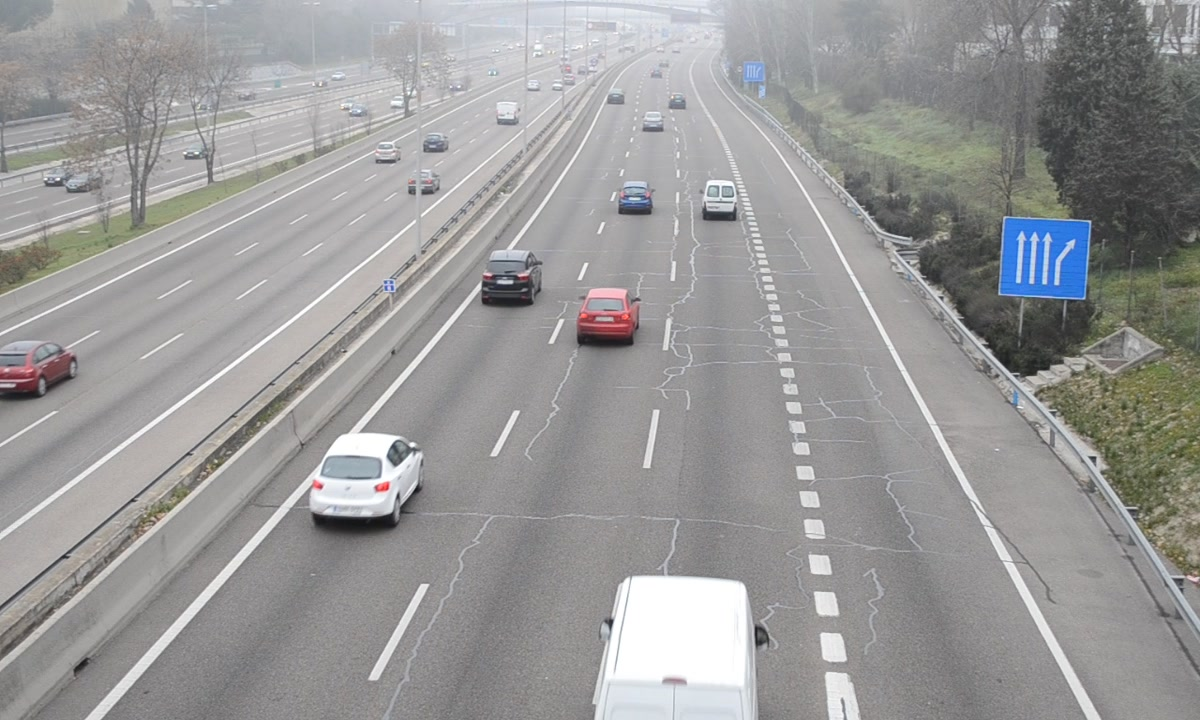car: (312, 433, 423, 518), (576, 288, 637, 339), (482, 250, 541, 302), (618, 181, 651, 218), (641, 110, 664, 132)
van: (591, 577, 760, 720), (702, 179, 738, 221)
